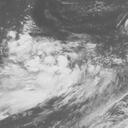cyclone: (25, 39, 90, 101)
